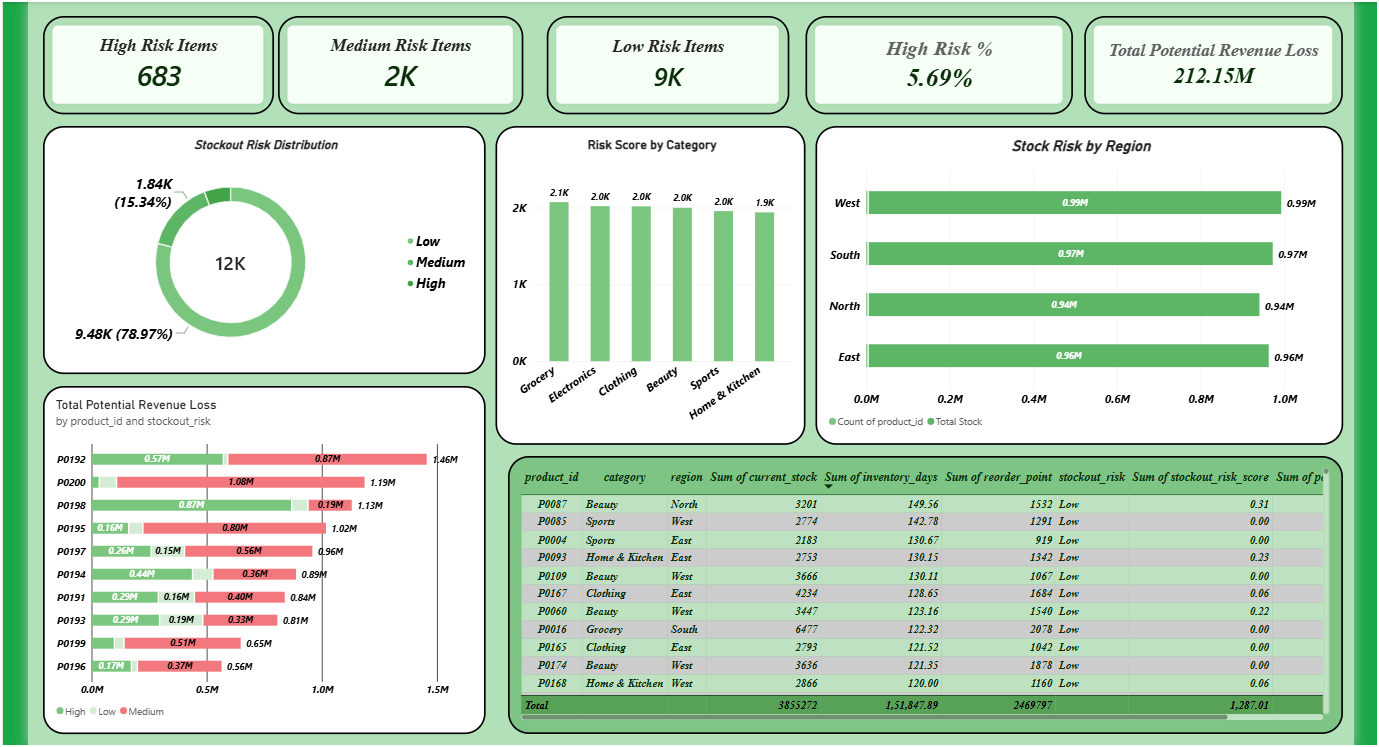

The page's visual inventory and layout, read from the dashboard file:
{"tool":"powerbi","page":{"name":" 🚨 Stockout Risk Analysis","canvas":[1920,1080],"ordinal":1},"visuals":[{"type":"donutChart","title":"Stockout Risk Distribution","fields":{"Category":["inventory_demand_stockout_risk_dataset.stockout_risk"],"Y":["CountNonNull(inventory_demand_stockout_risk_dataset.product_id)"]},"box":[21.3,180.9,640.4,359.6],"z":0},{"type":"cardVisual","fields":{"Data":["inventory_demand_stockout_risk_dataset.Medium Risk Items"]},"box":[361.7,21.3,355.3,142.6],"z":1000},{"type":"cardVisual","fields":{"Data":["inventory_demand_stockout_risk_dataset.Low Risk Items"]},"box":[751.1,21.3,351.1,142.6],"z":2000},{"type":"cardVisual","fields":{"Data":["inventory_demand_stockout_risk_dataset.High Risk %"]},"box":[1125.5,21.3,387.2,142.6],"z":3000},{"type":"cardVisual","fields":{"Data":["inventory_demand_stockout_risk_dataset.Total Potential Revenue Loss"]},"box":[1529.8,21.3,374.5,142.6],"z":4000},{"type":"barChart","title":"Stock Risk by Region","fields":{"Category":["inventory_demand_stockout_risk_dataset.region"],"Y":["CountNonNull(inventory_demand_stockout_risk_dataset.product_id)","inventory_demand_stockout_risk_dataset.Total Stock"]},"box":[1140.4,180.9,763.8,461.7],"z":5000},{"type":"columnChart","title":"Risk Score by Category","fields":{"Category":["inventory_demand_stockout_risk_dataset.category"],"Y":["CountNonNull(inventory_demand_stockout_risk_dataset.stockout_risk)"]},"box":[676.6,180.9,448.9,461.7],"z":6000},{"type":"barChart","fields":{"Category":["inventory_demand_stockout_risk_dataset.product_id"],"Y":["inventory_demand_stockout_risk_dataset.Total Potential Revenue Loss"],"Series":["inventory_demand_stockout_risk_dataset.stockout_risk"]},"box":[21.3,557.4,640.4,504.3],"z":7000},{"type":"tableEx","fields":{"Values":["inventory_demand_stockout_risk_dataset.product_id","inventory_demand_stockout_risk_dataset.category","inventory_demand_stockout_risk_dataset.region","Sum(inventory_demand_stockout_risk_dataset.current_stock)","Sum(inventory_demand_stockout_risk_dataset.inventory_days)","Sum(inventory_demand_stockout_risk_dataset.reorder_point)","inventory_demand_stockout_risk_dataset.stockout_risk","Sum(inventory_demand_stockout_risk_dataset.stockout_risk_score)","Sum(inventory_demand_stockout_risk_dataset.potential_revenue_loss)"]},"box":[695.7,659.6,1208.5,402.1],"z":8000},{"type":"cardVisual","fields":{"Data":["inventory_demand_stockout_risk_dataset.High Risk Items"]},"box":[21.3,21.3,334,142.6],"z":9000}]}

Visuals, with their boxes in screenshot pixels (x1, y1, x2, y2):
"Stockout Risk Distribution" donutChart: l=47, t=123, r=484, b=369
cardVisual - inventory_demand_stockout_risk_dataset.Medium Risk Items: l=279, t=15, r=521, b=112
cardVisual - inventory_demand_stockout_risk_dataset.Low Risk Items: l=545, t=15, r=784, b=112
cardVisual - inventory_demand_stockout_risk_dataset.High Risk %: l=800, t=15, r=1064, b=112
cardVisual - inventory_demand_stockout_risk_dataset.Total Potential Revenue Loss: l=1076, t=15, r=1331, b=112
"Stock Risk by Region" barChart: l=810, t=123, r=1331, b=438
"Risk Score by Category" columnChart: l=494, t=123, r=800, b=438
barChart - inventory_demand_stockout_risk_dataset.product_id x inventory_demand_stockout_risk_dataset.Total Potential Revenue Loss: l=47, t=380, r=484, b=724
tableEx - inventory_demand_stockout_risk_dataset.product_id x inventory_demand_stockout_risk_dataset.category: l=507, t=450, r=1331, b=724
cardVisual - inventory_demand_stockout_risk_dataset.High Risk Items: l=47, t=15, r=275, b=112
